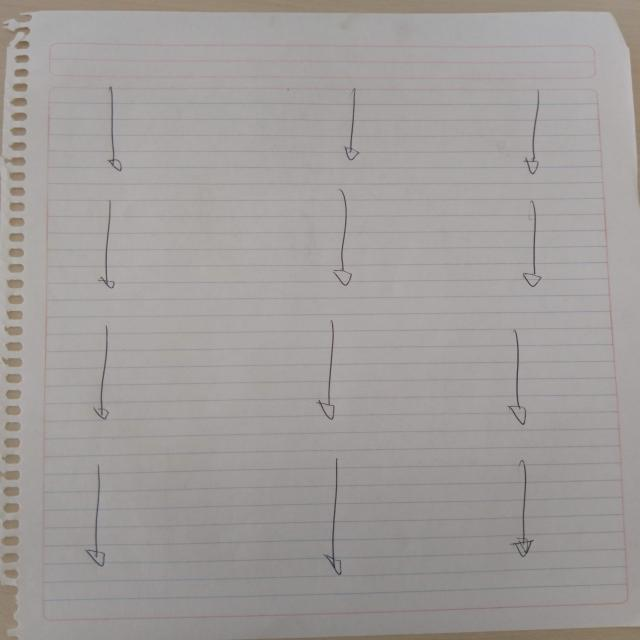arrow_line_down: (313, 452, 356, 578), (504, 456, 548, 560), (495, 330, 542, 422), (88, 81, 132, 177), (309, 322, 350, 424), (79, 323, 119, 422), (511, 87, 549, 182), (329, 90, 374, 168), (329, 189, 363, 286), (514, 199, 549, 287), (89, 203, 124, 289), (80, 462, 108, 569)
